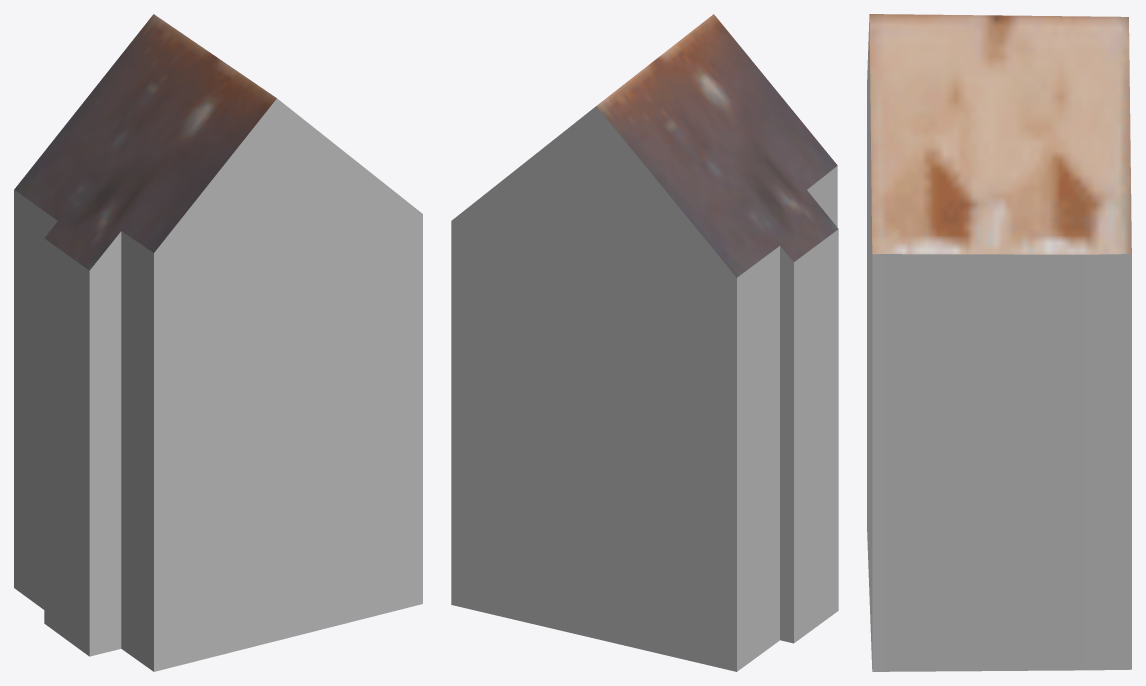
Rendered from DEBW_0010007Tx7Q.gltf.
3 renders of one model, left to right at view 1: azimuth 30°, elevation 25°; view 2: azimuth 150°, elevation 25°; view 3: azimuth 270°, elevation 25°, orthographic. The views are drawn at different scales.
Visible parts, largest first — view 1: Z_UP; view 2: Z_UP; view 3: Z_UP.
Boxes of the visible parts, x1,y1,x2,y2 form: Z_UP: [14, 14, 422, 671]; Z_UP: [451, 14, 838, 671]; Z_UP: [867, 14, 1131, 671].
Bounding box in the file's own units: 13.03 × 22.23 × 9.18.
2 materials, 1 textured.
